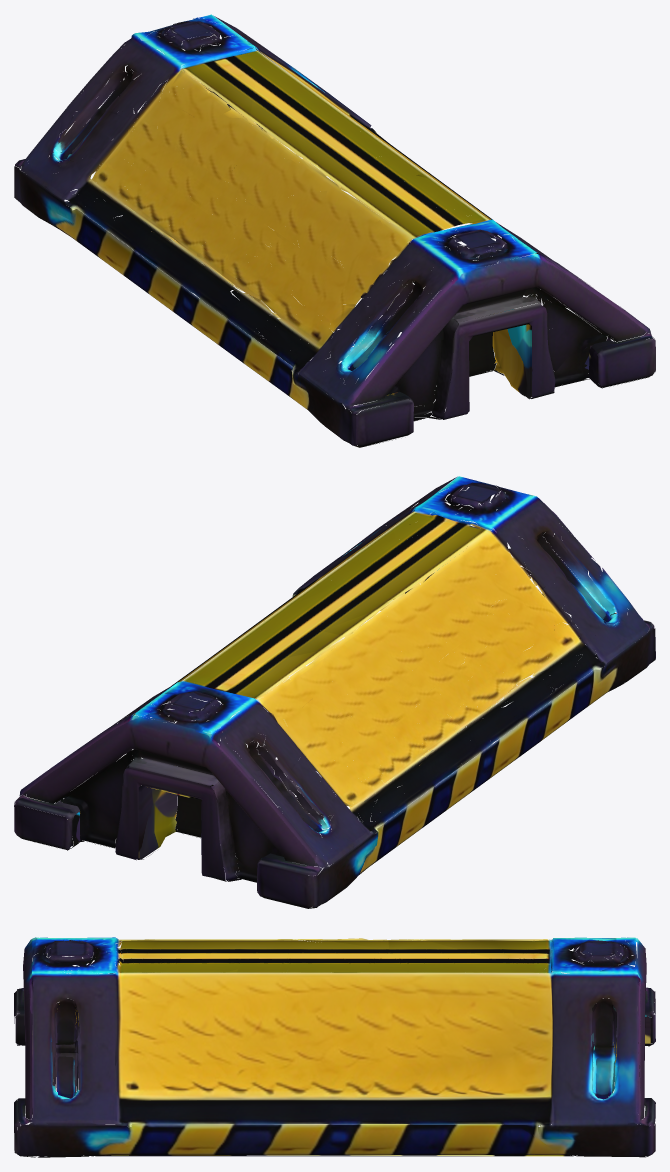
Rendered from h3-cable-ramp.glb.
3 renders of one model, top to bottom at view 1: azimuth 30°, elevation 25°; view 2: azimuth 150°, elevation 25°; view 3: azimuth 270°, elevation 25°, orthographic. The views are drawn at different scales.
Parts seen in each view (by area): view 1: tmpc844u28z.ply; view 2: tmpc844u28z.ply; view 3: tmpc844u28z.ply.
Part boxes in pixels (bbox=[...]): tmpc844u28z.ply: bbox=[14, 14, 655, 447]; tmpc844u28z.ply: bbox=[14, 476, 655, 908]; tmpc844u28z.ply: bbox=[14, 937, 655, 1157].
Size of the model in its own units: 1.03 by 0.4961 by 1.99.
Materials: 1 (1 with a texture image).
